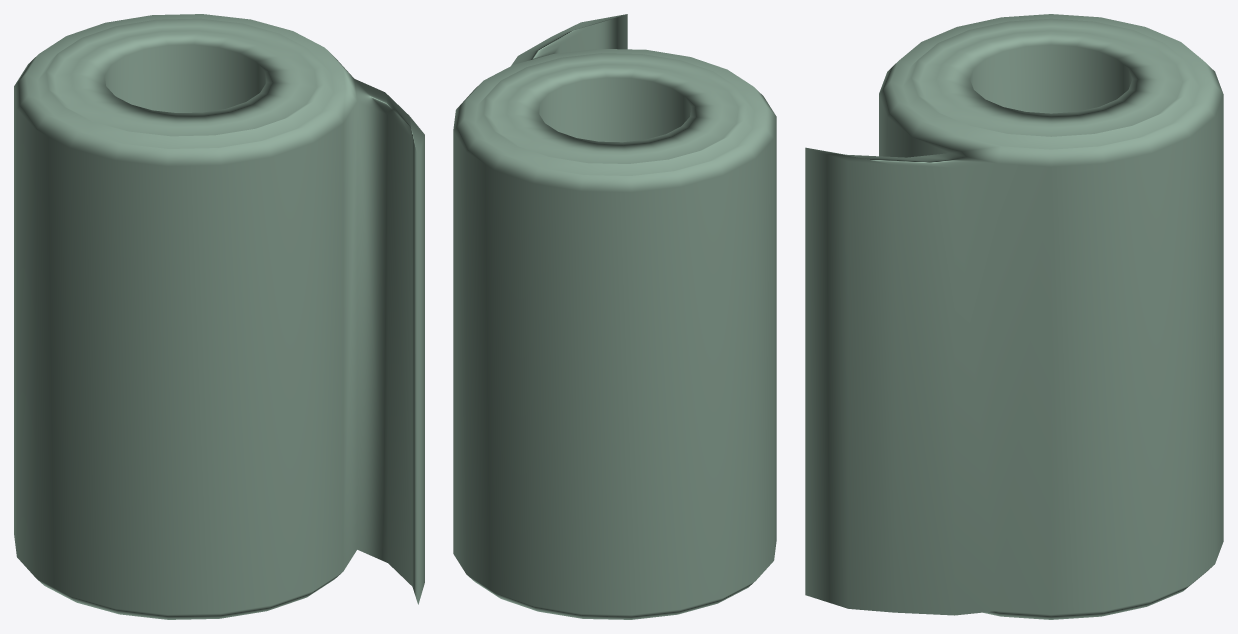
File: PAPEL HIGIENICO.fbx
3 renders of one model, left to right at view 1: azimuth 30°, elevation 25°; view 2: azimuth 150°, elevation 25°; view 3: azimuth 270°, elevation 25°, orthographic. The views are drawn at different scales.
Visible parts, largest first — view 1: papel_higienico; view 2: papel_higienico; view 3: papel_higienico.
Part boxes in pixels (x1,y1,x2,y2): papel_higienico: [14, 14, 424, 619]; papel_higienico: [453, 14, 776, 619]; papel_higienico: [805, 14, 1223, 619].
Size of the model in its own units: 7.08 by 10.76 by 8.53.
